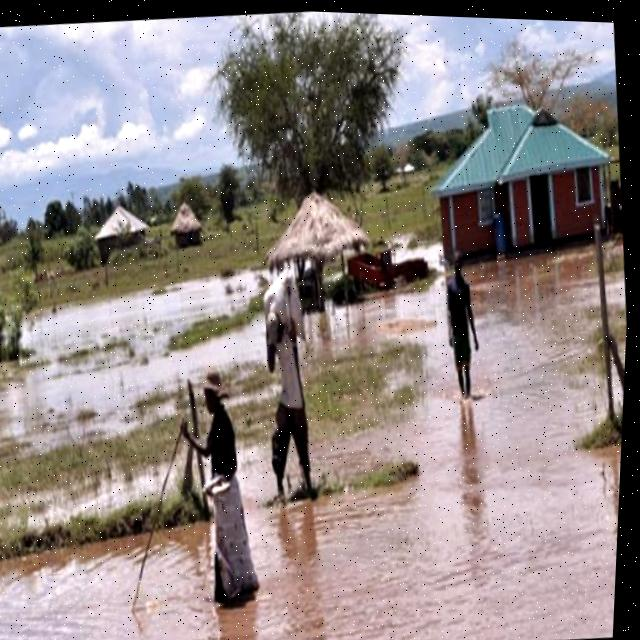civilian: (172, 353, 283, 623), (242, 301, 348, 543), (422, 226, 500, 410)
